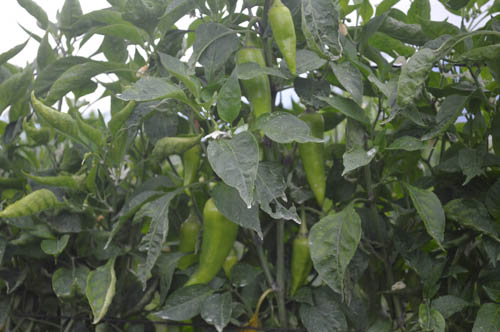ChiliPepper: (192, 197, 233, 288), (236, 45, 275, 125), (299, 115, 331, 202), (273, 3, 303, 78), (288, 227, 314, 286), (182, 140, 203, 189)
